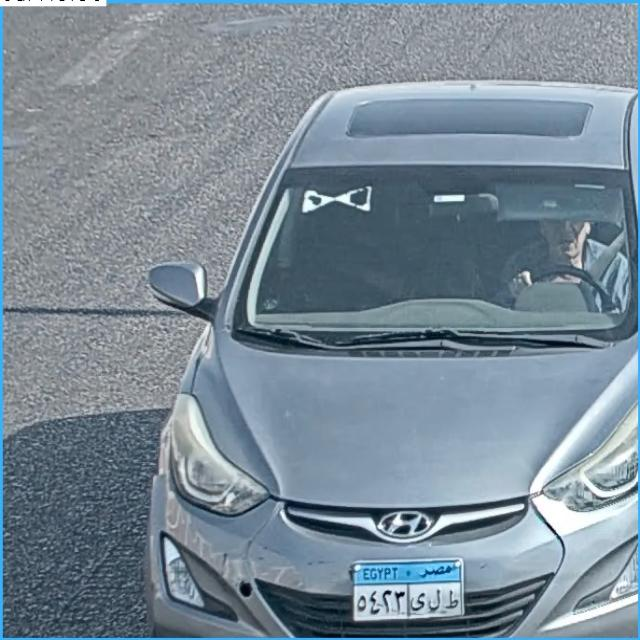windshield: (235, 168, 637, 333)
